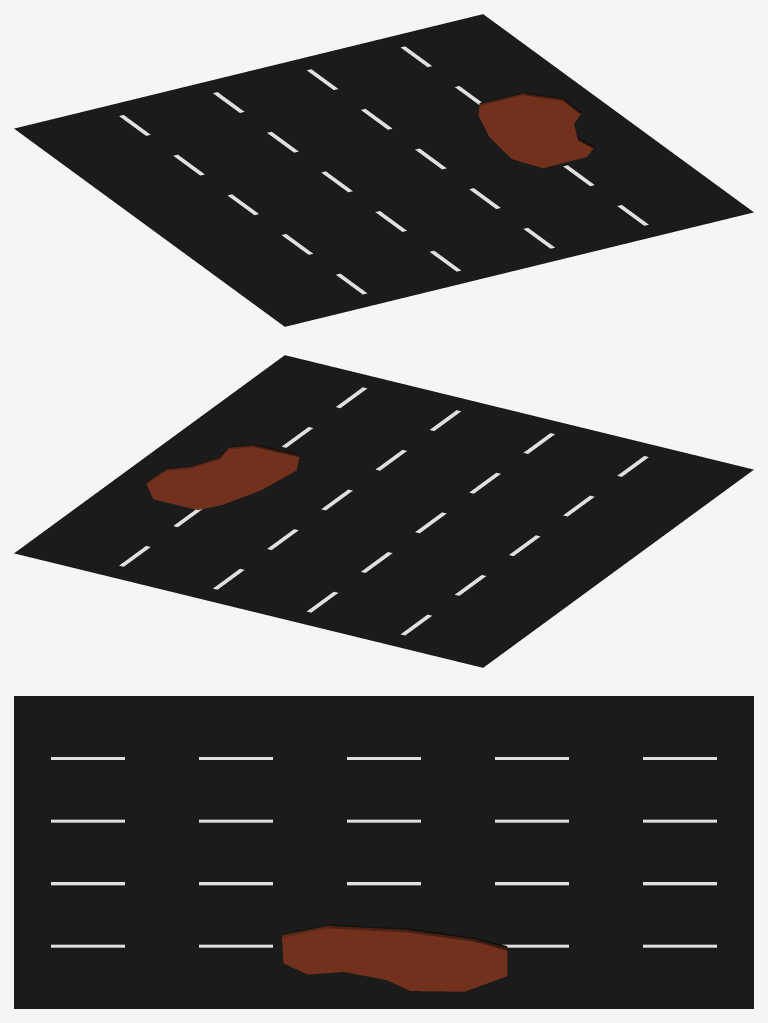
Rendered from Road_5_Lane_Crack_C.fbx.
3 views of the same model, one above another, from view 1: azimuth 30°, elevation 25°; view 2: azimuth 150°, elevation 25°; view 3: azimuth 270°, elevation 25° (orthographic). The views are drawn at different scales.
Parts seen in each view (by area): view 1: Road_5_Lane_Crack_C; view 2: Road_5_Lane_Crack_C; view 3: Road_5_Lane_Crack_C.
Part boxes in pixels (bbox=[...]): Road_5_Lane_Crack_C: bbox=[14, 14, 753, 326]; Road_5_Lane_Crack_C: bbox=[14, 355, 753, 667]; Road_5_Lane_Crack_C: bbox=[14, 696, 753, 1008].
Size of the model in its own units: 500 by 3.29 by 500.
